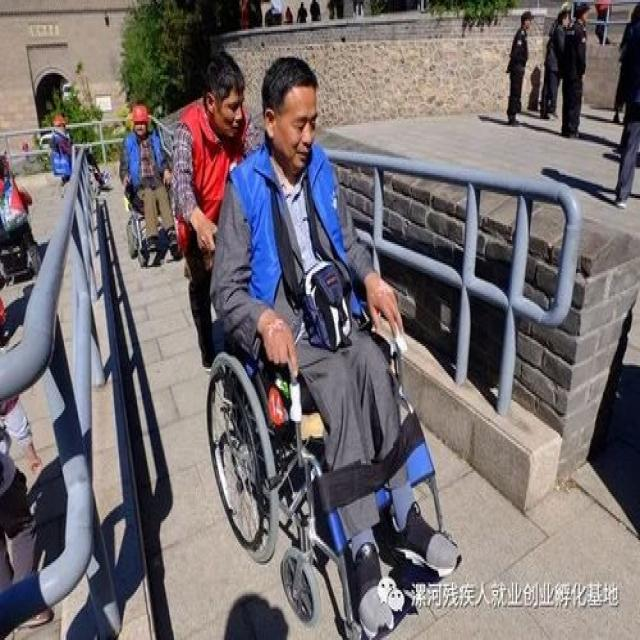wheelchairs: (195, 256, 465, 640), (116, 156, 187, 271)
